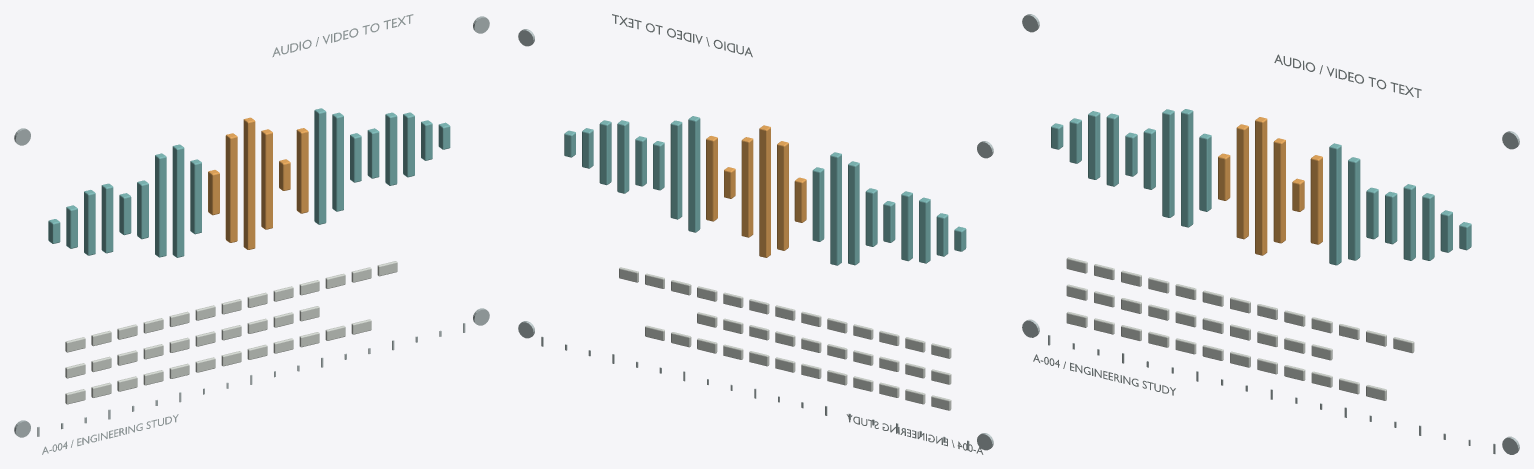
Rendered from transcription.glb.
The picture shows the model from 3 angles, left to right: view 1: azimuth 30°, elevation 25°; view 2: azimuth 150°, elevation 25°; view 3: azimuth 330°, elevation 25°; orthographic projection. The views are drawn at different scales.
Visible parts, largest first — view 1: optical-core__Project_Trace.005, optical-core__Project_Ceramic.009, optical-core__Project_Amber.010, optical-lenses__Project_Silver.011; view 2: optical-core__Project_Trace.005, optical-core__Project_Ceramic.009, optical-core__Project_Amber.010, optical-lenses__Project_Silver.011; view 3: optical-core__Project_Trace.005, optical-core__Project_Ceramic.009, optical-core__Project_Amber.010, optical-lenses__Project_Silver.011.
Boxes of the visible parts, x1=… form: optical-core__Project_Trace.005: x1=48, y1=108, x2=450, y2=257; optical-core__Project_Ceramic.009: x1=65, y1=261, x2=397, y2=404; optical-core__Project_Amber.010: x1=208, y1=117, x2=308, y2=249; optical-lenses__Project_Silver.011: x1=14, y1=14, x2=489, y2=454; optical-core__Project_Trace.005: x1=564, y1=116, x2=966, y2=265; optical-core__Project_Ceramic.009: x1=619, y1=267, x2=951, y2=410; optical-core__Project_Amber.010: x1=706, y1=125, x2=806, y2=257; optical-lenses__Project_Silver.011: x1=518, y1=14, x2=993, y2=454; optical-core__Project_Trace.005: x1=1051, y1=109, x2=1471, y2=265; optical-core__Project_Ceramic.009: x1=1066, y1=257, x2=1414, y2=400; optical-core__Project_Amber.010: x1=1218, y1=117, x2=1322, y2=255; optical-lenses__Project_Silver.011: x1=1022, y1=14, x2=1519, y2=454.
Size of the model in its own units: 4.01 by 2.83 by 0.1417.
